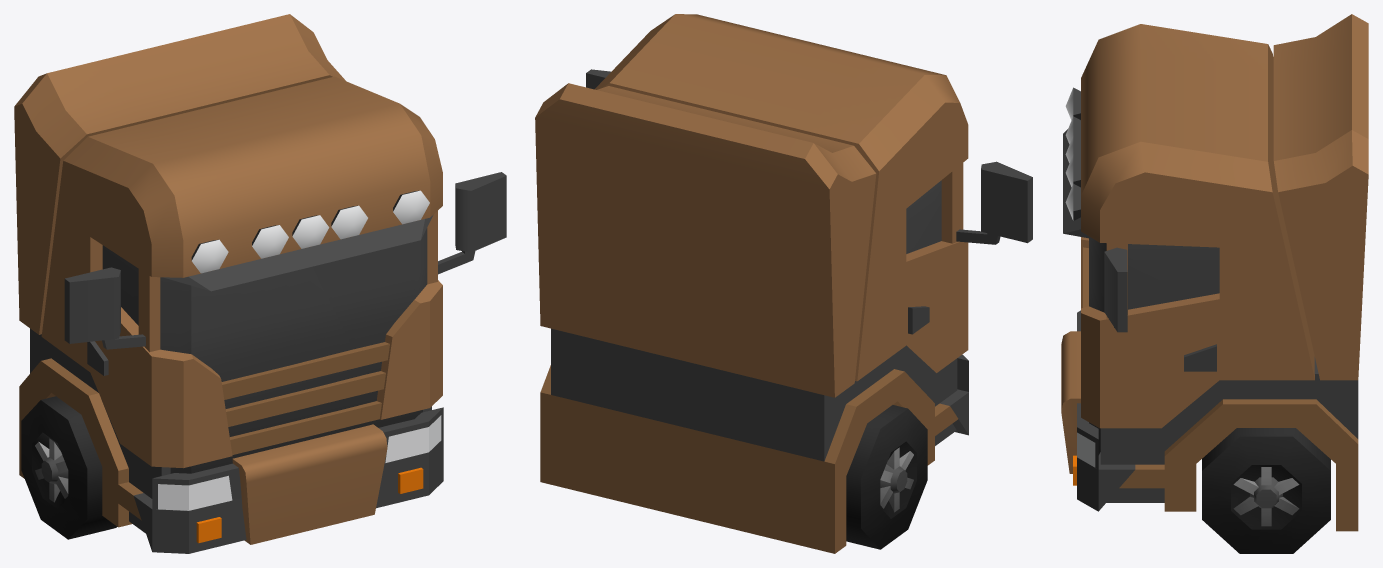
Rendered from head_E_2.fbx.
The picture shows the model from 3 angles, left to right: view 1: azimuth 30°, elevation 25°; view 2: azimuth 150°, elevation 25°; view 3: azimuth 270°, elevation 25°; orthographic projection. The views are drawn at different scales.
Parts seen in each view (by area): view 1: head_E_2; view 2: head_E_2; view 3: head_E_2.
Part boxes in pixels (<box>): head_E_2: <box>14,14,506,553</box>; head_E_2: <box>535,14,1032,553</box>; head_E_2: <box>1061,14,1368,553</box>.
Size of the model in its own units: 1736 by 1578 by 1081.
